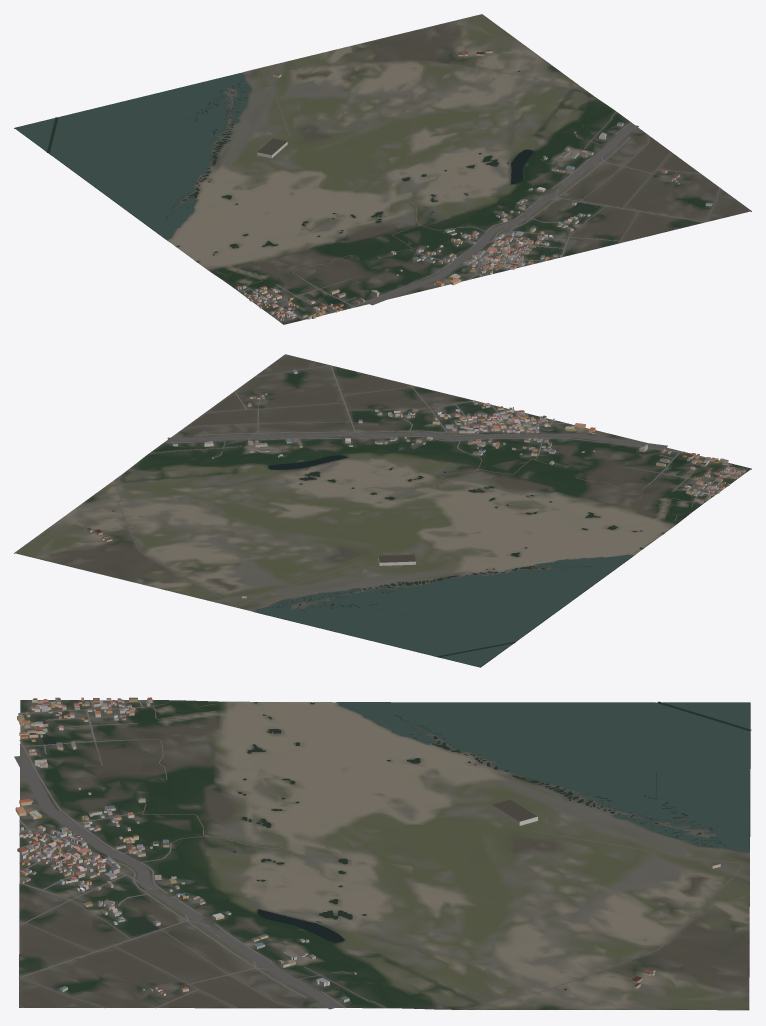
The picture shows the model from 3 angles, top to bottom: view 1: azimuth 30°, elevation 25°; view 2: azimuth 150°, elevation 25°; view 3: azimuth 270°, elevation 25°; orthographic projection. The views are drawn at different scales.
Visible parts, largest first — view 1: ground, water, roads, buildings; view 2: ground, water, roads, buildings; view 3: ground, water, roads, buildings.
Part boxes in pixels (x1,y1,x2,y2): ground: (14, 14, 751, 324); water: (15, 71, 594, 304); roads: (216, 61, 749, 319); buildings: (235, 50, 712, 320); ground: (14, 354, 751, 667); water: (112, 414, 686, 667); roads: (116, 355, 741, 604); buildings: (87, 369, 745, 598); ground: (19, 700, 750, 1010); water: (42, 701, 751, 990); roads: (14, 700, 743, 1009); buildings: (15, 697, 720, 1002).
Bounding box in the file's own units: 1408 × 17.81 × 1416.
